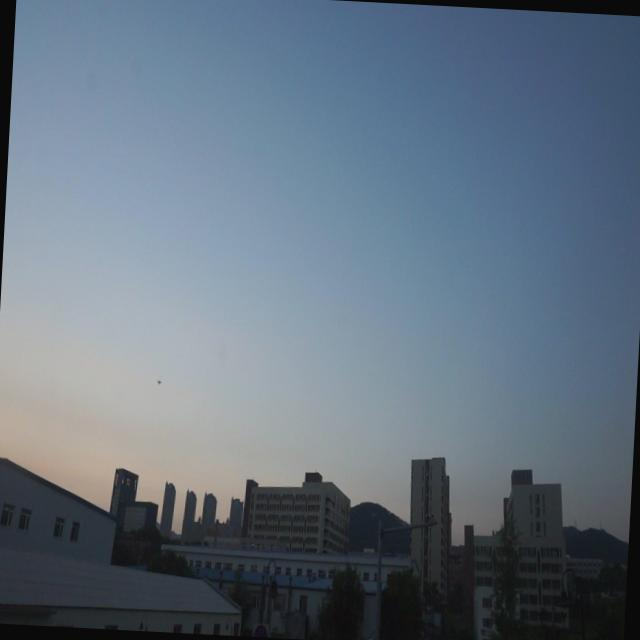drone: (154, 372, 164, 390)
